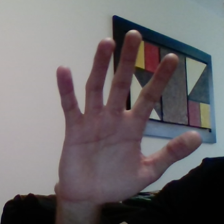left: (44, 21, 209, 205)
